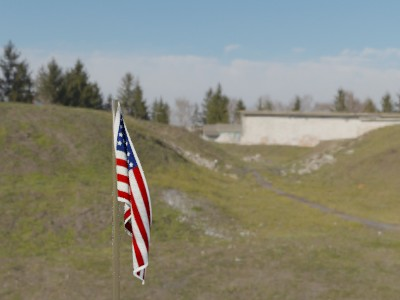America flag: (114, 101, 161, 287)
